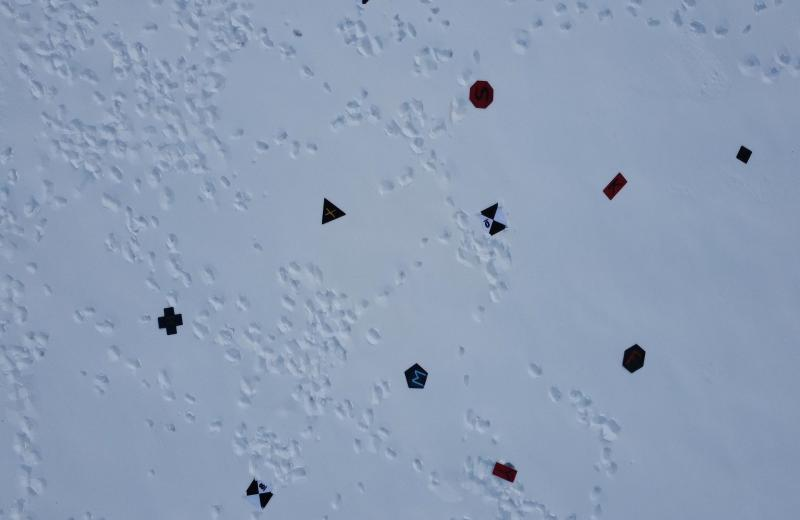Cross: (156, 302, 188, 336)
Hexagon: (621, 341, 651, 377)
Octagon: (468, 79, 498, 116)
Pentagon: (405, 359, 435, 394)
Rectangle: (487, 458, 520, 488), (602, 169, 632, 202)
Square: (732, 145, 756, 170)
Triangle: (316, 193, 349, 227)
